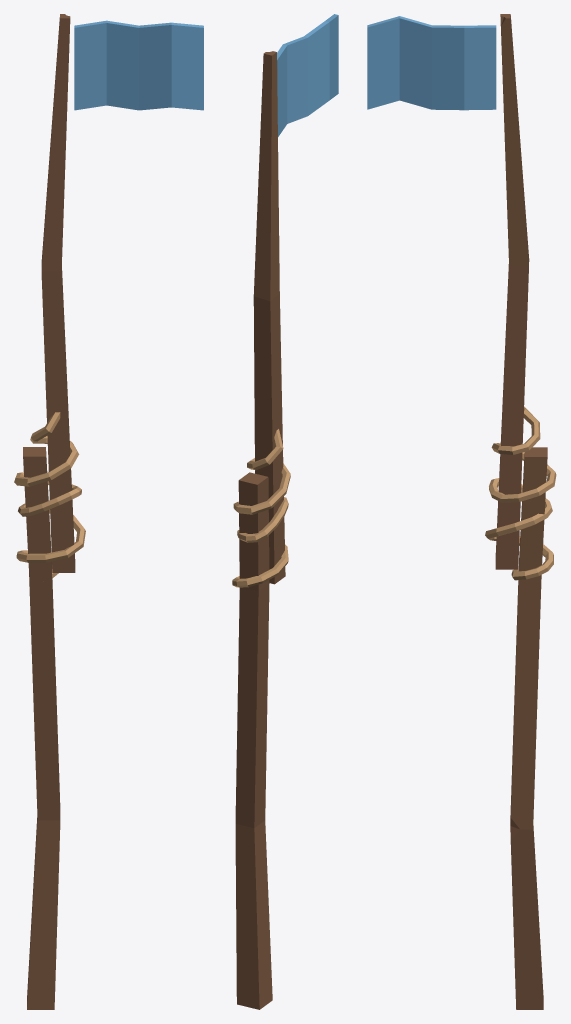
Rendered from Flag.fbx.
3 views of the same model, side by side, from view 1: azimuth 90°, elevation 25°; view 2: azimuth 150°, elevation 25°; view 3: azimuth 270°, elevation 25° (orthographic). The views are drawn at different scales.
Parts seen in each view (by area): view 1: Flag; view 2: Flag; view 3: Flag.
Part boxes in pixels (x1,y1,x2,y2): Flag: [14, 14, 203, 1009]; Flag: [232, 14, 338, 1009]; Flag: [367, 14, 556, 1009].
Size of the model in its own units: 53.96 by 16.03 by 311.
